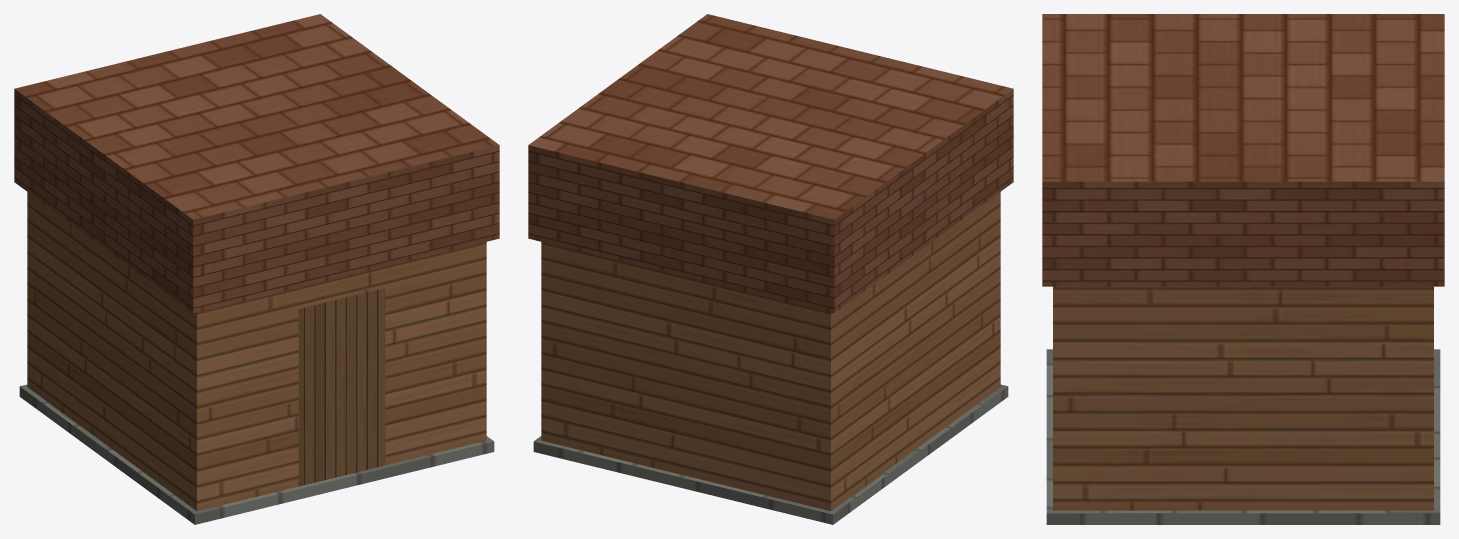
The model's file is house_hut_b_lod1.glb.
3 renders of one model, left to right at view 1: azimuth 30°, elevation 25°; view 2: azimuth 150°, elevation 25°; view 3: azimuth 270°, elevation 25°, orthographic. The views are drawn at different scales.
Parts seen in each view (by area): view 1: ae_sand_house_hut_b_lod1; view 2: ae_sand_house_hut_b_lod1; view 3: ae_sand_house_hut_b_lod1.
Part boxes in pixels (x1,y1,x2,y2): ae_sand_house_hut_b_lod1: (14,14,499,524); ae_sand_house_hut_b_lod1: (528,14,1013,524); ae_sand_house_hut_b_lod1: (1042,14,1444,524).
Bounding box in the file's own units: 3.7 × 3.55 × 3.75.
1 material, 1 textured.
